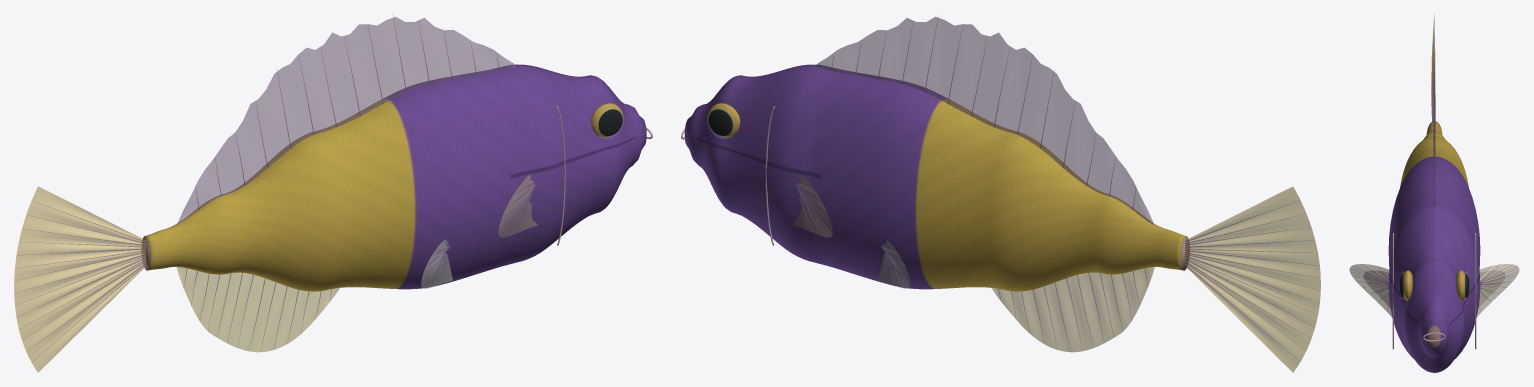
The model's file is royal-desktop.glb.
The picture shows the model from 3 angles, left to right: view 1: azimuth 30°, elevation 25°; view 2: azimuth 150°, elevation 25°; view 3: azimuth 270°, elevation 25°; orthographic projection. The views are drawn at different scales.
Visible parts, largest first — view 1: skin, dorsal, tail, anal, dorsal-ray, pectoral-left, pelvic-left, eye-pupil--1; view 2: skin, dorsal, tail, anal, dorsal-ray, pectoral-left, pelvic-left, eye-pupil--1; view 3: skin, pectoral-left, pelvic-left, dorsal-ray, operculum, eye-iris--1, dorsal, tail, eye-pupil--1.
Part boxes in pixels (<box>): skin: <box>141,64,646,291</box>; dorsal: <box>177,17,516,224</box>; tail: <box>14,186,145,372</box>; anal: <box>176,267,339,352</box>; dorsal-ray: <box>15,14,535,355</box>; pectoral-left: <box>498,174,537,237</box>; pelvic-left: <box>421,239,452,288</box>; eye-pupil--1: <box>598,109,622,135</box>; skin: <box>684,64,1189,291</box>; dorsal: <box>814,17,1153,224</box>; tail: <box>1185,187,1320,372</box>; anal: <box>991,267,1154,352</box>; dorsal-ray: <box>795,14,1319,360</box>; pectoral-left: <box>793,174,832,237</box>; pelvic-left: <box>878,240,909,288</box>; eye-pupil--1: <box>708,109,732,135</box>; skin: <box>1388,121,1480,372</box>; pectoral-left: <box>1349,264,1519,317</box>; pelvic-left: <box>1363,270,1505,306</box>; dorsal-ray: <box>1350,22,1516,306</box>; operculum: <box>1392,233,1476,349</box>; eye-iris--1: <box>1403,270,1465,300</box>; dorsal: <box>1433,62,1435,205</box>; tail: <box>1431,14,1435,121</box>; eye-pupil--1: <box>1399,274,1469,297</box>.
Size of the model in its own units: 0.5972 by 0.2763 by 0.1669.
11 materials, 1 textured.
